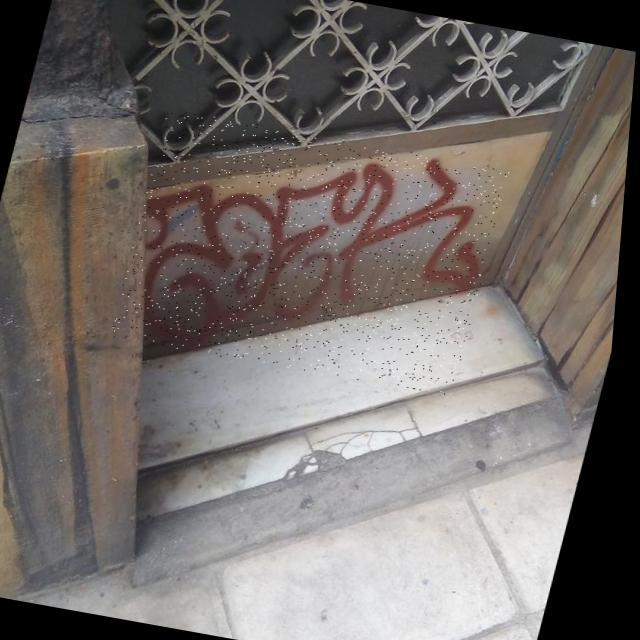-: (111, 108, 517, 398)
